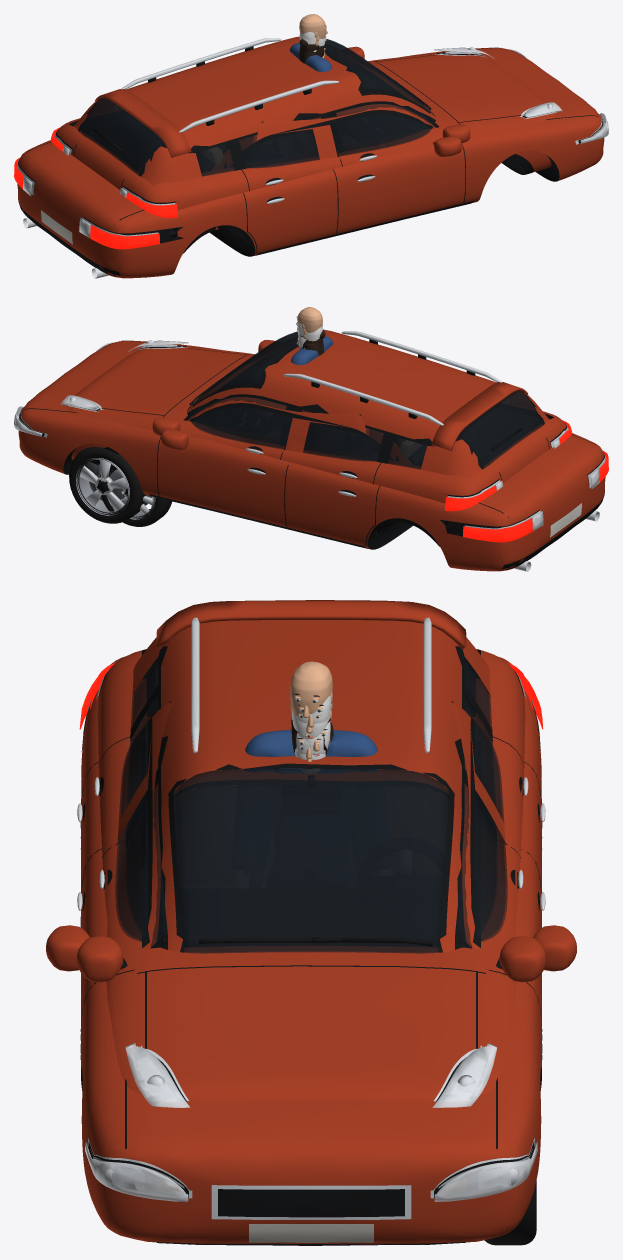
File: sunset_bay.glb
3 renders of one model, top to bottom at view 1: azimuth 30°, elevation 25°; view 2: azimuth 150°, elevation 25°; view 3: azimuth 270°, elevation 25°, orthographic. The views are drawn at different scales.
Parts seen in each view (by area): view 1: car_i20, car_sedan, P1_torso; view 2: car_i20, car_sedan, wheel_sedan, wheel_i20, P1_torso; view 3: car_i20, car_sedan, P1_torso, wheel_sedan.
Boxes of the visible parts, box(x1,y1,x2,y2) form: car_i20: box(50, 36, 562, 253); car_sedan: box(14, 46, 608, 278); P1_torso: box(290, 14, 331, 70); car_i20: box(60, 329, 572, 546); car_sedan: box(14, 340, 608, 571); wheel_sedan: box(69, 447, 146, 523); wheel_i20: box(100, 464, 172, 526); P1_torso: box(292, 307, 332, 363); car_i20: box(76, 600, 546, 1107); car_sedan: box(46, 656, 576, 1245); P1_torso: box(248, 661, 374, 772); wheel_sedan: box(484, 1180, 536, 1245).
Size of the model in its own units: 4.73 by 1.88 by 2.13.
